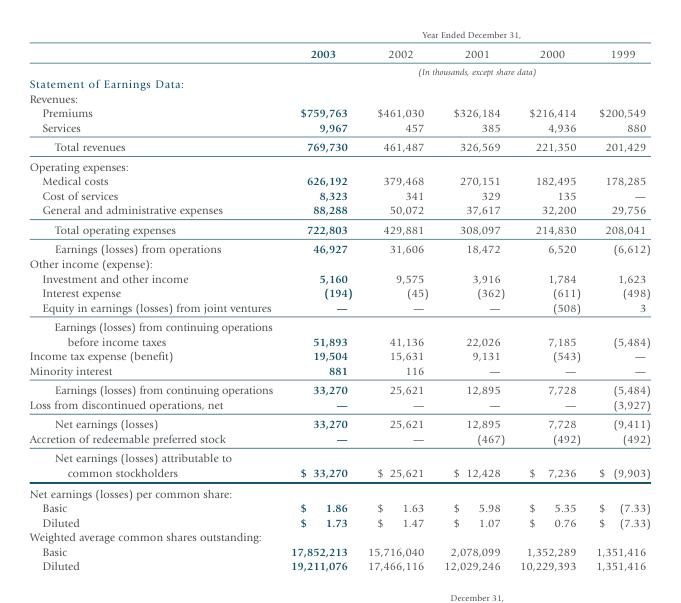table: (28, 28, 649, 572)
table column: (28, 28, 281, 572), (281, 28, 359, 572), (359, 28, 435, 572), (435, 28, 511, 572), (511, 28, 587, 572), (587, 28, 649, 572)
table column header: (28, 28, 649, 76)
table projected row header: (28, 482, 649, 500), (28, 156, 649, 173), (28, 90, 649, 105), (28, 76, 649, 90), (28, 256, 649, 270), (28, 529, 649, 543)
table row: (28, 448, 649, 482), (28, 316, 649, 348), (28, 42, 649, 63), (28, 136, 649, 156), (28, 219, 649, 239), (28, 430, 649, 448), (28, 482, 649, 500), (28, 119, 649, 136), (28, 156, 649, 173), (28, 202, 649, 219), (28, 239, 649, 256), (28, 299, 649, 316), (28, 362, 649, 379), (28, 379, 649, 396), (28, 396, 649, 413), (28, 413, 649, 430), (28, 90, 649, 105), (28, 187, 649, 202), (28, 270, 649, 285), (28, 514, 649, 529), (28, 543, 649, 558), (28, 28, 649, 42), (28, 76, 649, 90), (28, 105, 649, 119), (28, 173, 649, 187), (28, 256, 649, 270), (28, 285, 649, 299), (28, 348, 649, 362), (28, 500, 649, 514), (28, 529, 649, 543), (28, 558, 649, 572), (28, 63, 649, 76)
table spanning cell: (281, 28, 649, 42), (281, 63, 649, 76)
